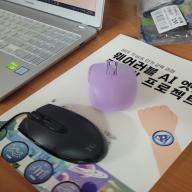mouse: (18, 104, 108, 164), (87, 59, 140, 112)
